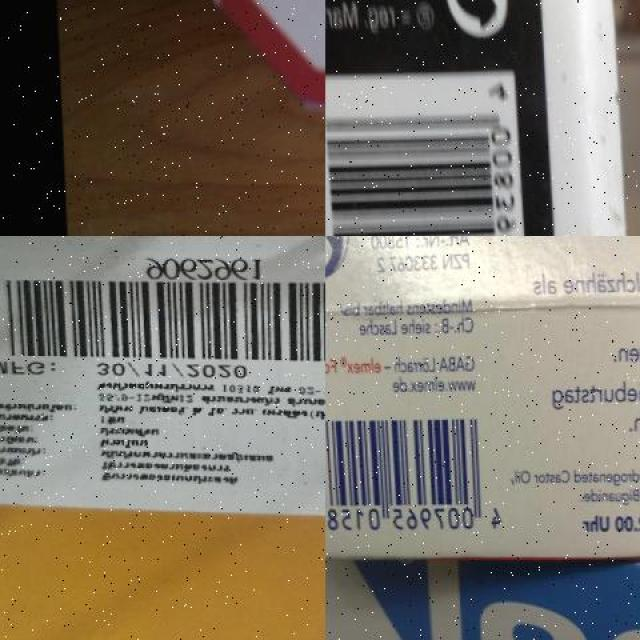Barcode: (0, 250, 325, 361), (326, 68, 534, 236), (325, 404, 503, 544)
